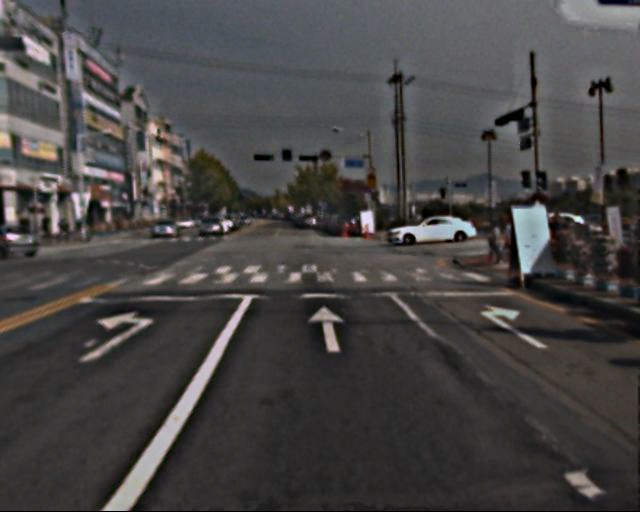person: (484, 222, 506, 268)
